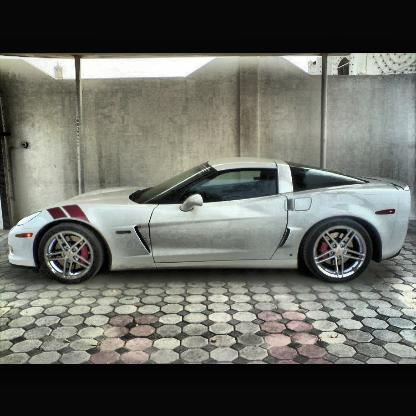Chevrolet Corvette Ron Fellows Edition Z06 2007: (7, 158, 411, 283)
